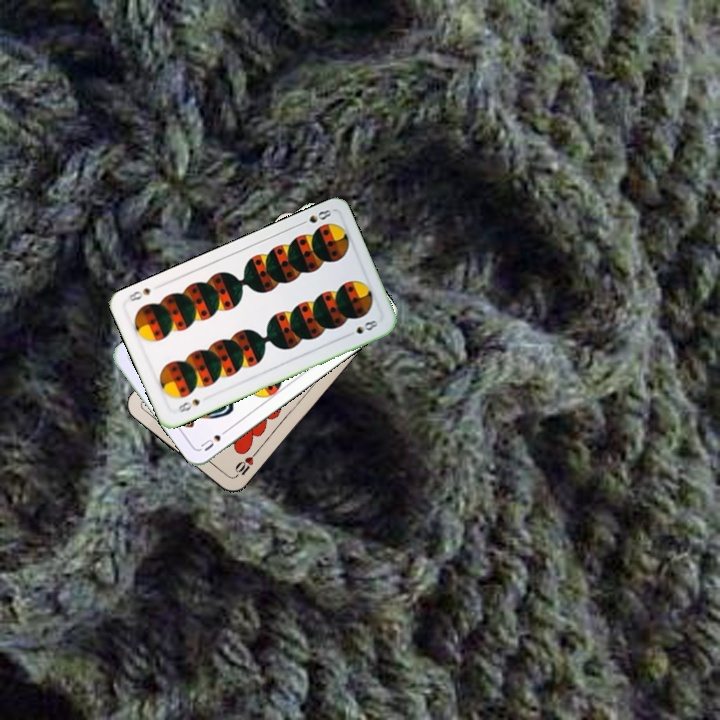H10: (230, 446, 261, 481)
S8: (295, 205, 334, 228), (174, 395, 203, 415)
SU: (196, 424, 232, 454)
